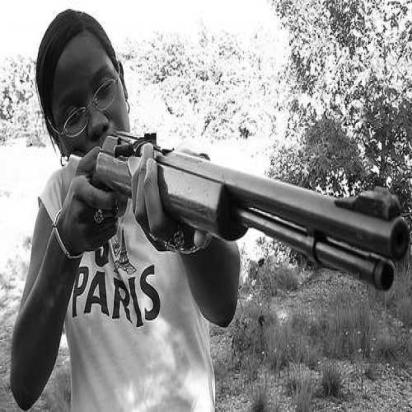Gun: (64, 113, 412, 322)
